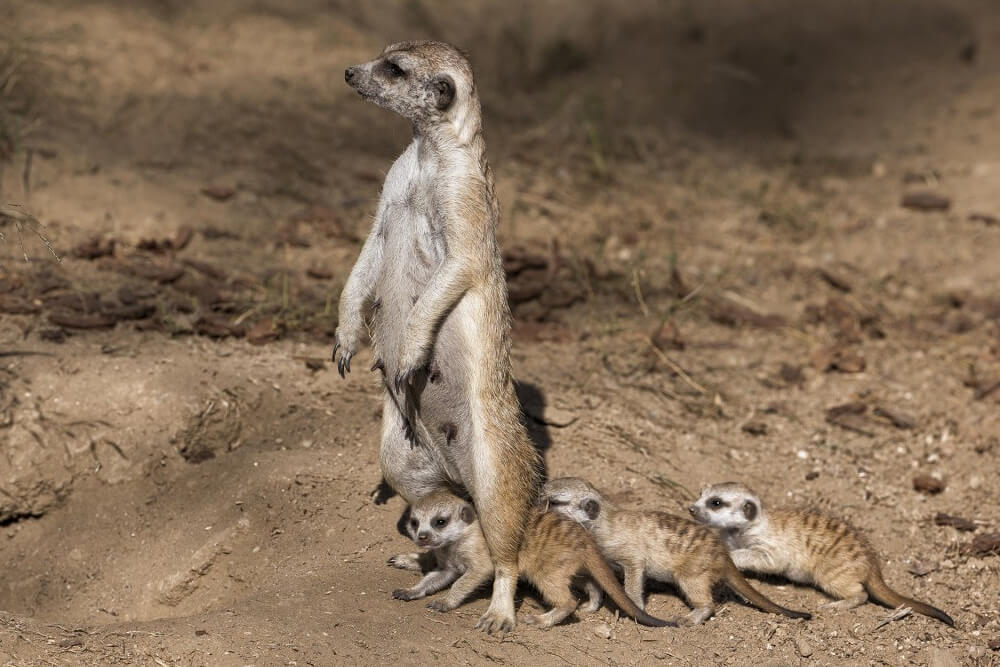meerkat: (297, 12, 573, 637)
